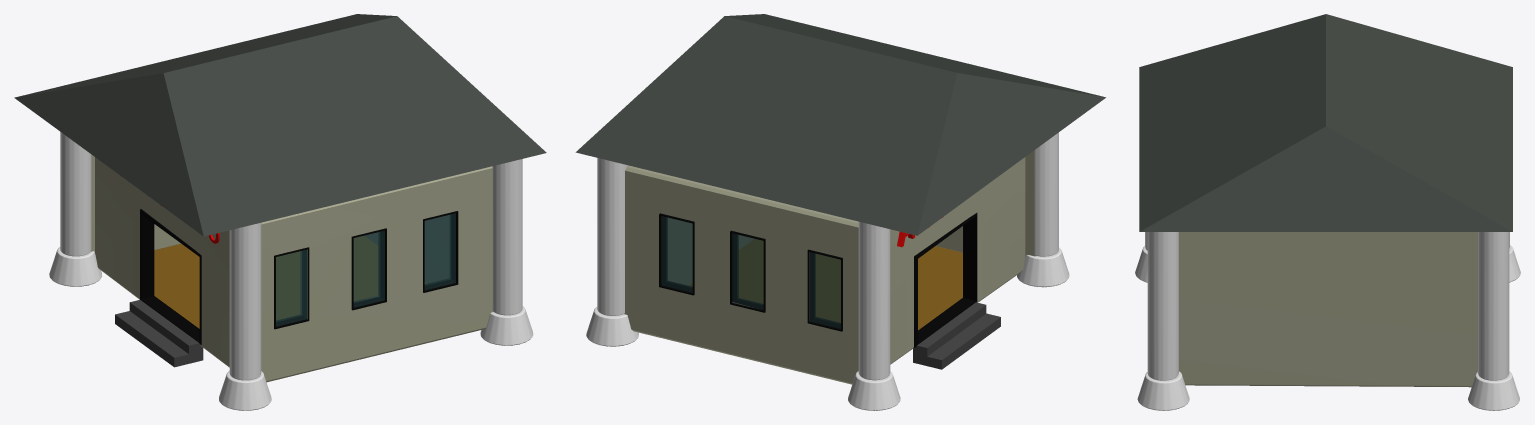
Rendered from House.fbx.
3 views of the same model, side by side, from view 1: azimuth 30°, elevation 25°; view 2: azimuth 150°, elevation 25°; view 3: azimuth 270°, elevation 25° (orthographic).
Visible parts, largest first — view 1: pasted__pCube2, pCube8, pCube9, pCube7, pCylinder5, pCylinder2, pCylinder3, pCube12, pCube13, pCube14, pCube15, pCube11 (+9 smaller); view 2: pasted__pCube2, pCube19, pCube9, pCube7, pCylinder3, pCylinder4, pCylinder5, pCube12, pCube16, pCube17, pCube18, pCube11 (+9 smaller); view 3: pasted__pCube2, pCube3, pCylinder2, pCylinder4, pCylinder8, pCylinder6.
Part boxes in pixels (<box>): pasted__pCube2: <box>14,14,546,236</box>; pCube8: <box>261,166,492,382</box>; pCube9: <box>95,157,229,367</box>; pCube7: <box>154,236,426,328</box>; pCylinder5: <box>229,223,261,380</box>; pCylinder2: <box>492,159,522,315</box>; pCylinder3: <box>60,132,91,256</box>; pCube12: <box>140,209,201,344</box>; pCube13: <box>276,249,307,326</box>; pCube14: <box>353,230,384,307</box>; pCube15: <box>424,213,455,290</box>; pCube11: <box>115,311,203,367</box>; pasted__pCube2: <box>575,14,1105,235</box>; pCube19: <box>624,165,858,384</box>; pCube9: <box>890,157,1025,364</box>; pCube7: <box>689,239,962,330</box>; pCylinder3: <box>858,221,890,380</box>; pCylinder4: <box>597,158,627,315</box>; pCylinder5: <box>1035,132,1058,256</box>; pCube12: <box>913,213,977,347</box>; pCube16: <box>661,216,692,292</box>; pCube17: <box>732,233,763,309</box>; pCube18: <box>810,252,840,328</box>; pCube11: <box>913,313,1000,369</box>; pasted__pCube2: <box>1139,14,1512,231</box>; pCube3: <box>1179,232,1477,387</box>; pCylinder2: <box>1147,232,1178,380</box>; pCylinder4: <box>1478,232,1509,380</box>; pCylinder8: <box>1137,371,1189,410</box>; pCylinder6: <box>1468,371,1519,410</box>.
Bounding box in the file's own units: 105 × 79.31 × 104.
